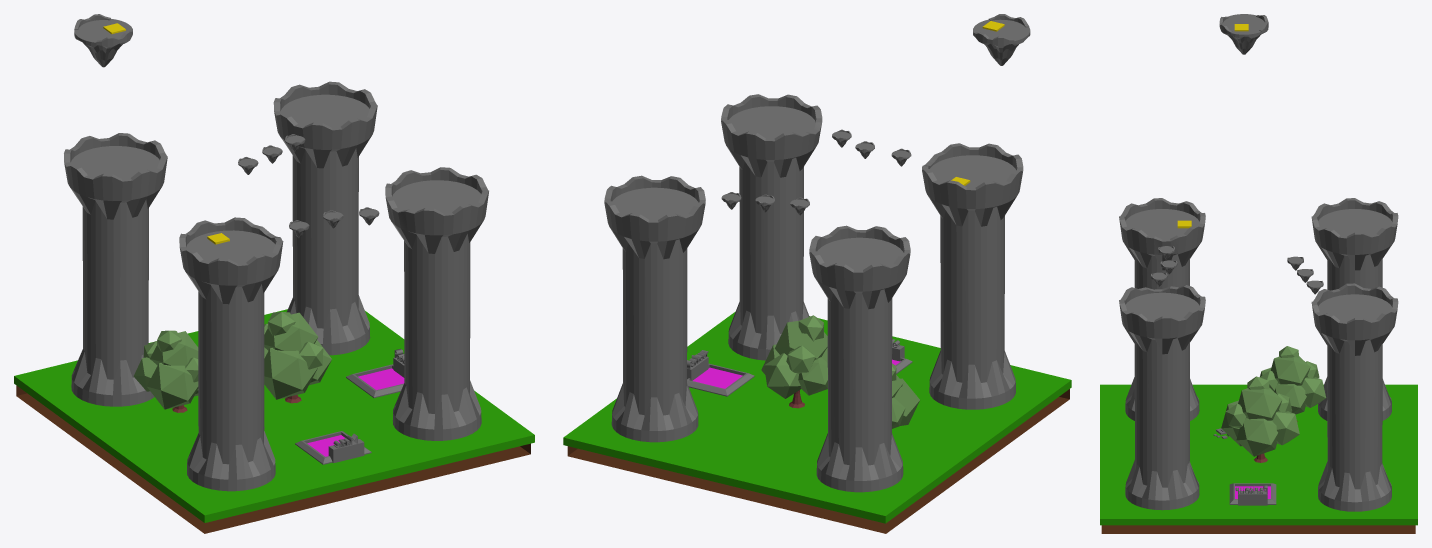
File: gameLobby.glb
The picture shows the model from 3 angles, left to right: view 1: azimuth 30°, elevation 25°; view 2: azimuth 150°, elevation 25°; view 3: azimuth 270°, elevation 25°; orthographic projection. The views are drawn at different scales.
Visible parts, largest first — view 1: Cube.007, Cylinder.003, Cylinder.001, Cylinder.034, Cylinder.002, Plane.001, Icosphere.005, Icosphere.002, platforme_roche.008, Cube, _stm_portal_0_; view 2: Cube.007, Cylinder.034, Cylinder.002, Cylinder.001, Cylinder.003, Plane.001, Icosphere.005, platforme_roche.008, Icosphere.002, Cube, _stm_portal_0_; view 3: Cube.007, Cylinder.002, Cylinder.003, Cylinder.034, Cylinder.001, Icosphere.005, Plane.001, Icosphere.002, platforme_roche.008, Cube, Cube.005.
Part boxes in pixels (box(x1,y1,x2,y2)): Cube.007: box(14, 309, 534, 522); Cylinder.003: box(385, 167, 488, 440); Cylinder.001: box(179, 217, 283, 491); Cylinder.034: box(64, 133, 167, 406); Cylinder.002: box(273, 81, 377, 355); Plane.001: box(16, 385, 530, 533); Icosphere.005: box(264, 312, 331, 399); Icosphere.002: box(133, 330, 198, 409); platforme_roche.008: box(74, 14, 132, 67); Cube: box(346, 364, 403, 397); _stm_portal_0_: box(358, 368, 404, 390); Cube.007: box(563, 311, 1071, 523); Cylinder.034: box(809, 225, 910, 492); Cylinder.002: box(604, 175, 705, 442); Cylinder.001: box(922, 143, 1023, 409); Cylinder.003: box(721, 94, 822, 360); Plane.001: box(567, 389, 1069, 533); Icosphere.005: box(761, 315, 827, 398); platforme_roche.008: box(973, 14, 1030, 65); Icosphere.002: box(892, 363, 919, 428); Cube: box(687, 363, 754, 396); _stm_portal_0_: box(692, 367, 742, 388); Cube.007: box(1100, 384, 1417, 525); Cylinder.002: box(1311, 283, 1398, 511); Cylinder.003: box(1119, 285, 1205, 510); Cylinder.034: box(1311, 198, 1398, 420); Cylinder.001: box(1119, 198, 1205, 420); Icosphere.005: box(1221, 376, 1299, 456); Plane.001: box(1101, 525, 1415, 533); Icosphere.002: box(1259, 346, 1326, 414); platforme_roche.008: box(1219, 14, 1268, 54); Cube: box(1229, 483, 1276, 504); Cube.005: box(1238, 491, 1267, 505).
Size of the model in its own units: 97.61 by 113 by 87.03.
